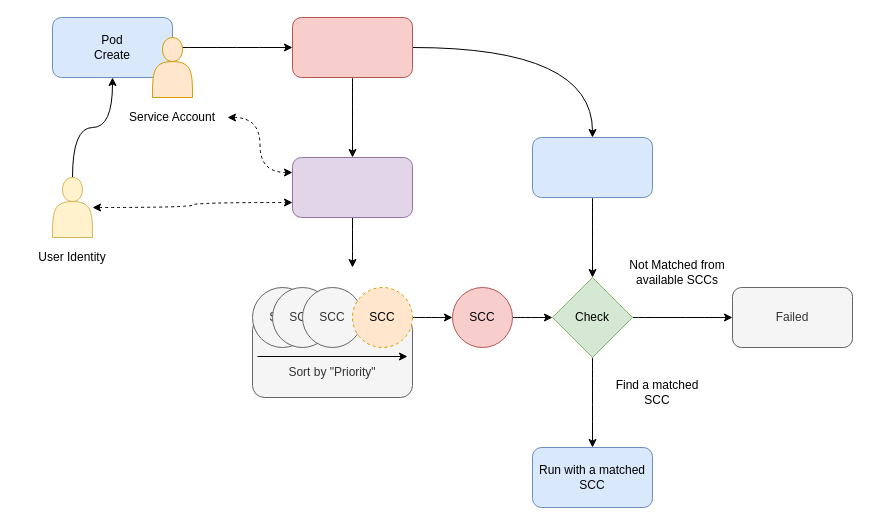
This 870x525 diagram has some shape labels left out. Each missing label, with the centre of its shape:
Admission Controller: point 352,47
Requested Conditions: point 592,167
Retrieve all available SCCs: point 352,187
